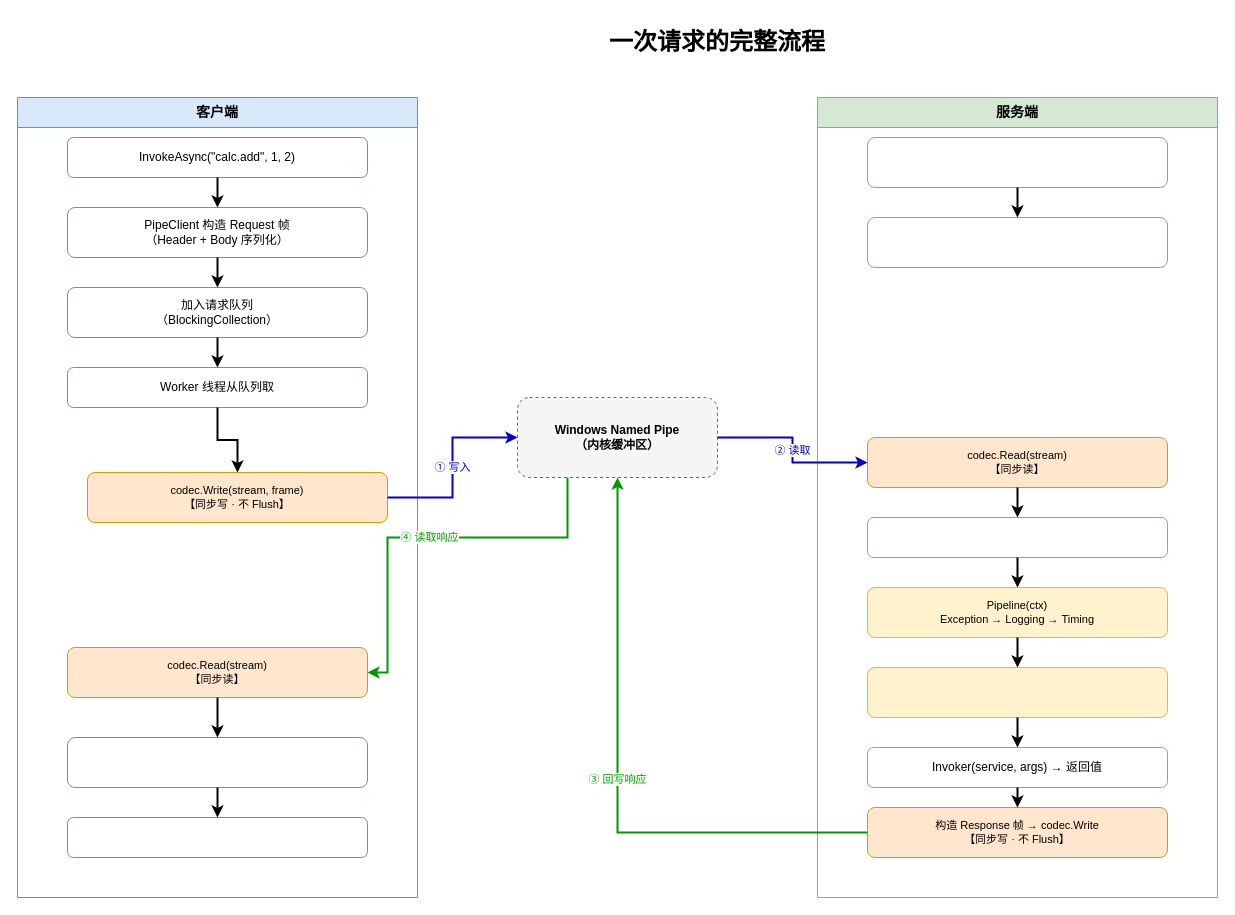
Image size: 1235x915. Some labels were removed from this diagram. Each missing label, with the centre of its shape:
Accept 专用线程 × 32 WaitForConnection（同步阻塞）: the point at 1017,162
await 返回 → 反序列化 Data → 返回: the point at 217,837
HandlerRegistry.Resolve(ContentType) CallMethodHandler.HandleAsync: the point at 1017,692
TCS.TrySetResult(frame) （RunContinuationsAsynchronously）: the point at 217,762
反序列化 → 构造 PipeRequest: the point at 1017,537
每连接开专用线程 （PipeConn-xxxxxxxx）: the point at 1017,242
